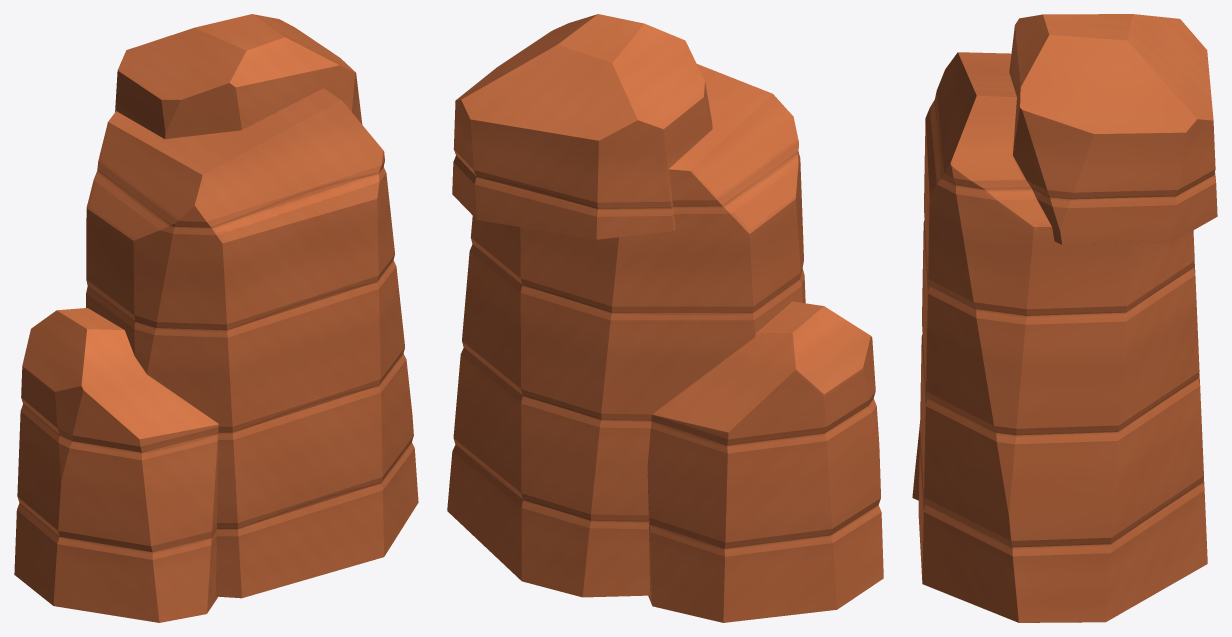
Rendered from CanyonWall_B.fbx.
3 views of the same model, side by side, from view 1: azimuth 30°, elevation 25°; view 2: azimuth 150°, elevation 25°; view 3: azimuth 270°, elevation 25° (orthographic). The views are drawn at different scales.
Parts seen in each view (by area): view 1: CanyonWall_B; view 2: CanyonWall_B; view 3: CanyonWall_B.
Boxes of the visible parts, bbox=[...] form: CanyonWall_B: bbox=[14, 14, 418, 622]; CanyonWall_B: bbox=[447, 14, 883, 622]; CanyonWall_B: bbox=[912, 14, 1217, 622].
Bounding box in the file's own units: 32 × 41 × 21.
1 material, 1 textured.
